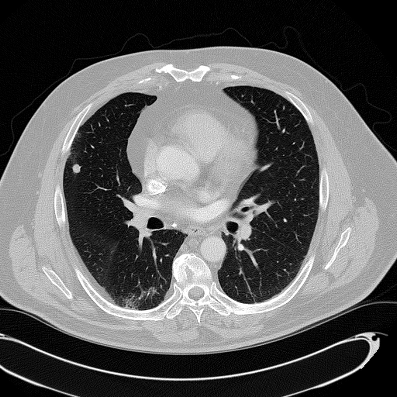nodule: (72, 164, 80, 172)
